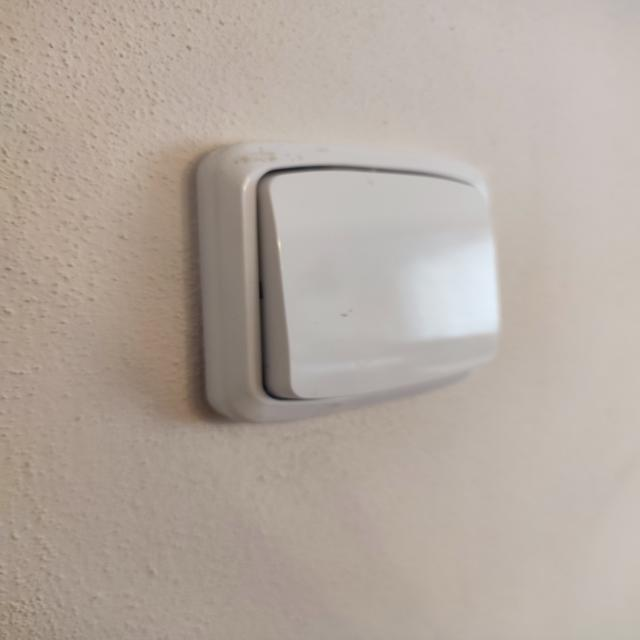house switch: (195, 142, 499, 424)
